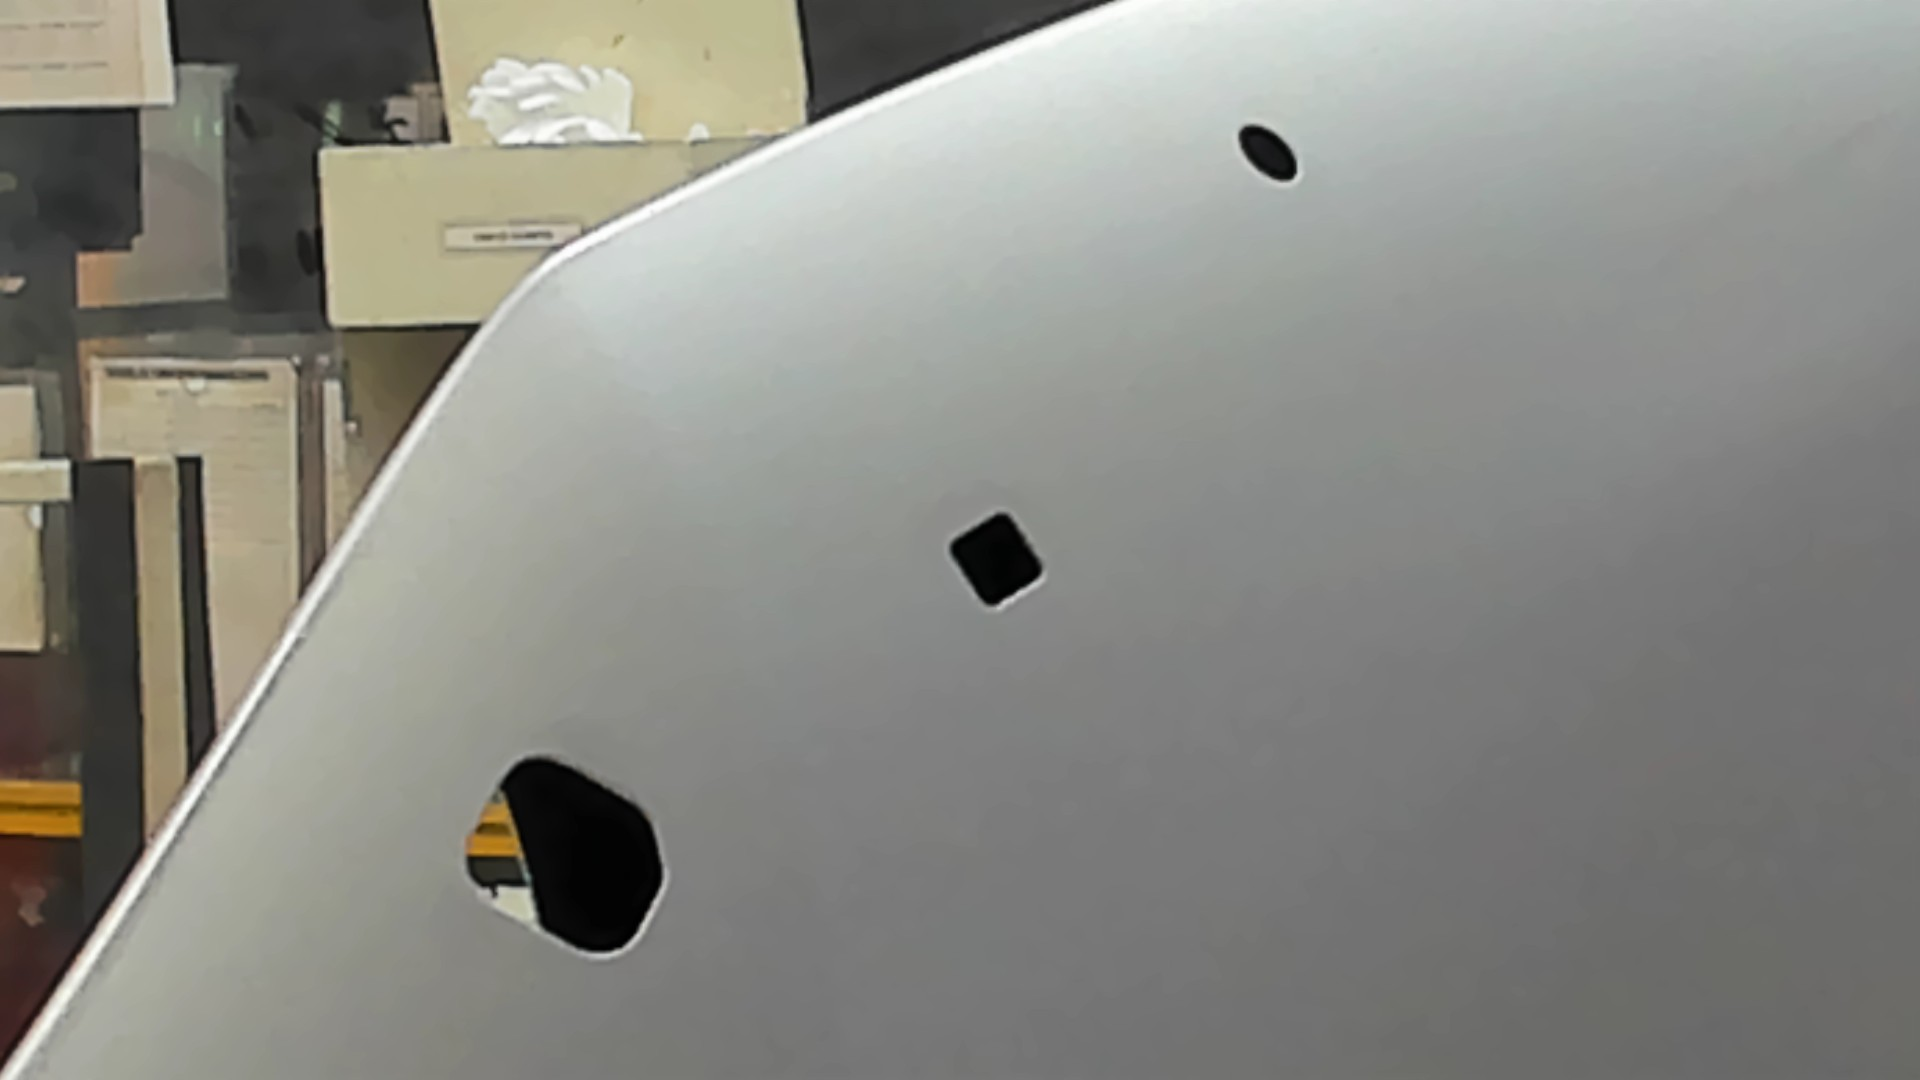Agujero: (945, 512, 1046, 611), (1236, 121, 1298, 181)
Agujerote: (463, 754, 669, 961)
